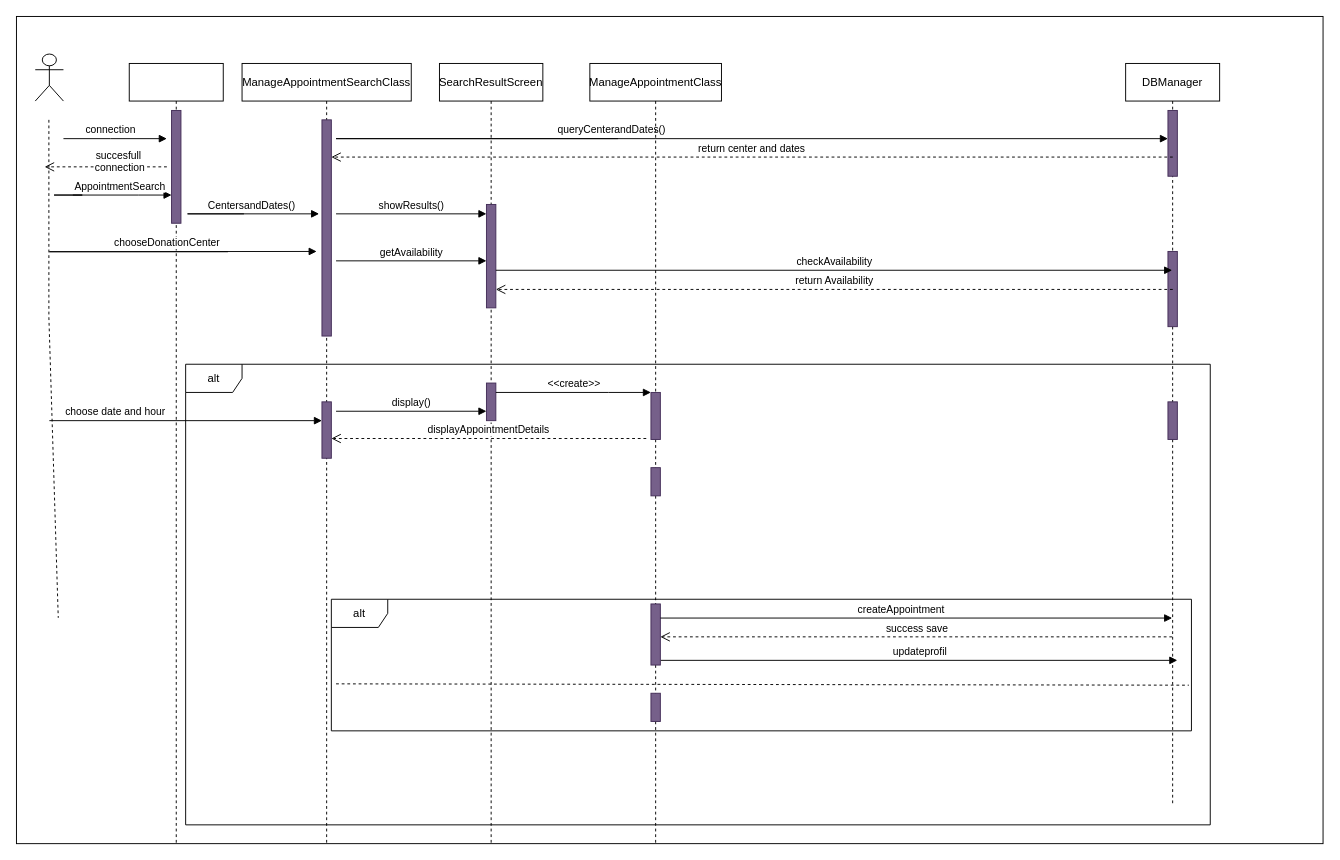
This 1340x860 diagram has some shape labels left out. Here are the shapes that lost their labels. From the top down, the centre of each, then its label:
At (48,77): "Actor".
At (175,453): "MenuScreen".
